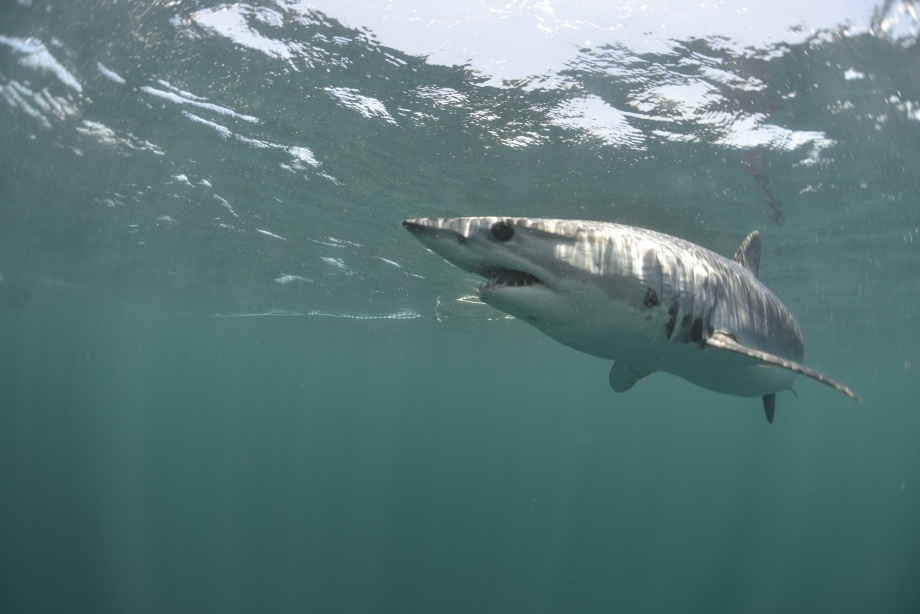Mako: (396, 206, 870, 428)
